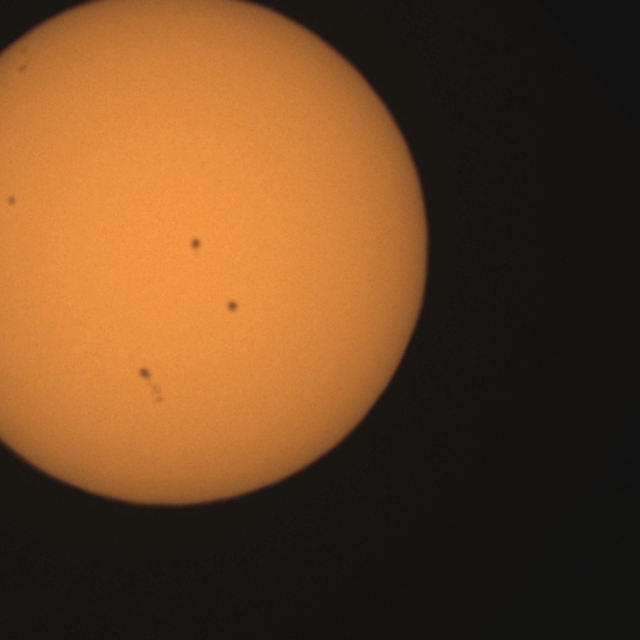sunspot: (137, 365, 166, 406), (15, 44, 30, 76), (136, 365, 154, 384), (188, 236, 203, 252), (225, 299, 240, 314), (5, 194, 17, 208), (18, 62, 28, 76)
